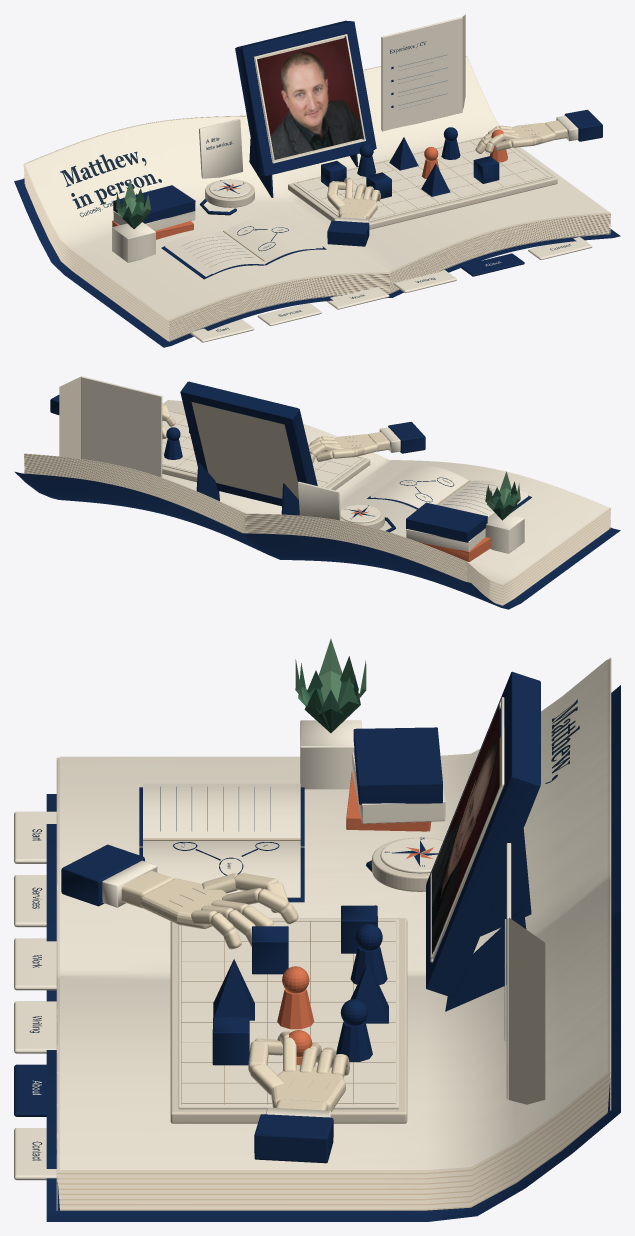
The model's file is about.glb.
The picture shows the model from 3 angles, top to bottom: view 1: azimuth 30°, elevation 25°; view 2: azimuth 150°, elevation 25°; view 3: azimuth 270°, elevation 25°; orthographic projection. The views are drawn at different scales.
Visible parts, largest first — view 1: Open notebook leaf 1, Blue pawn body, Compass cream dial, Compass paper case, Matthew headshot photograph, CV return fold, CV standing page, Leaf fore-edge 2.83 0, Cobalt lower cover, Paper leaf 00, Left paper hand index segment 0, Strategy board (+11 smaller); view 2: Compass paper case, Open notebook leaf 1, Cobalt lower cover, CV return fold, Blue pawn body, CV standing page, Compass cream dial, Leaf fore-edge 2.83 0, Paper leaf 00, Left paper hand index segment 0, Strategy board, Coral pawn body (+2 smaller); view 3: Open notebook leaf 1, Blue pawn body, Compass cream dial, CV return fold, Cobalt lower cover, Left paper hand index segment 0, Paper leaf 00, Strategy board, Matthew headshot photograph, Left paper hand palm, Compass paper case, Coral pawn body (+13 smaller).
Boxes of the visible parts, x1,y1,x2,y2 form: Open notebook leaf 1: (25,57,609,319); Blue pawn body: (113,20,602,251); Compass cream dial: (112,34,578,266); Compass paper case: (24,36,610,341); Matthew headshot photograph: (257,37,363,159); CV return fold: (23,14,610,340); CV standing page: (381,17,462,131); Leaf fore-edge 2.83 0: (24,137,610,341); Cobalt lower cover: (14,139,620,347); Paper leaf 00: (23,165,610,340); Left paper hand index segment 0: (327,120,567,219); Strategy board: (288,136,557,229); Compass paper case: (24,402,610,580); Open notebook leaf 1: (26,400,609,584); Cobalt lower cover: (14,462,620,609); CV return fold: (24,376,610,604); Blue pawn body: (50,381,487,542); CV standing page: (81,376,162,477); Compass cream dial: (162,411,524,553); Leaf fore-edge 2.83 0: (24,411,610,581); Paper leaf 00: (24,455,610,605); Left paper hand index segment 0: (162,403,389,463); Strategy board: (162,410,370,490); Coral pawn body: (162,439,490,561); Open notebook leaf 1: (60,659,607,1169); Blue pawn body: (61,671,540,1163); Compass cream dial: (32,697,504,1117); CV return fold: (57,658,610,1209); Cobalt lower cover: (46,685,620,1221); Left paper hand index segment 0: (121,871,349,1110); Paper leaf 00: (57,1073,610,1210); Strategy board: (170,918,407,1123); Matthew headshot photograph: (432,704,499,954); Left paper hand palm: (140,878,345,1112); Compass paper case: (56,658,611,1209); Coral pawn body: (277,771,431,1065).
Bounding box in the file's own units: 11.26 × 3.63 × 6.21.
12 materials, 1 textured.
